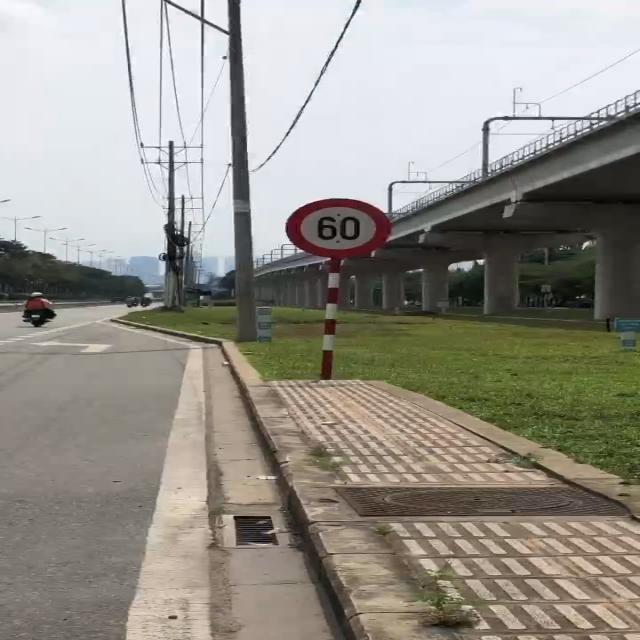Bien bao toc do toi da cho phep: (278, 192, 402, 263)
